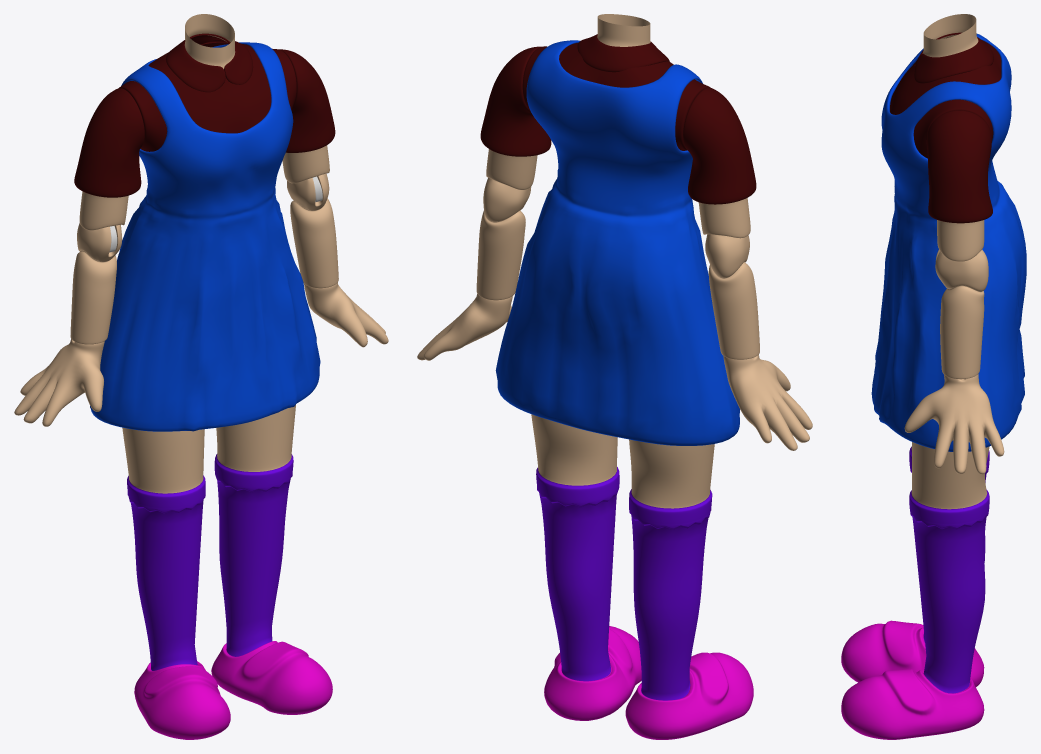
Rendered from body.fbx.
The picture shows the model from 3 angles, left to right: view 1: azimuth 30°, elevation 25°; view 2: azimuth 150°, elevation 25°; view 3: azimuth 270°, elevation 25°; orthographic projection. The views are drawn at different scales.
Parts seen in each view (by area): view 1: squidGameDoll_Body, squidGameDoll_Arm, squidGameDoll_Chest; view 2: squidGameDoll_Body, squidGameDoll_Arm, squidGameDoll_Chest; view 3: squidGameDoll_Body, squidGameDoll_Arm, squidGameDoll_Chest.
Part boxes in pixels (x1=…): squidGameDoll_Body: x1=90, y1=42, x2=332, y2=739; squidGameDoll_Arm: x1=14, y1=49, x2=388, y2=426; squidGameDoll_Chest: x1=119, y1=14, x2=296, y2=151; squidGameDoll_Body: x1=495, y1=40, x2=753, y2=739; squidGameDoll_Arm: x1=417, y1=46, x2=812, y2=450; squidGameDoll_Chest: x1=522, y1=14, x2=710, y2=150; squidGameDoll_Body: x1=841, y1=33, x2=1026, y2=739; squidGameDoll_Arm: x1=904, y1=110, x2=1004, y2=474; squidGameDoll_Chest: x1=890, y1=14, x2=1001, y2=158.
Bounding box in the file's own units: 681 × 1206 × 297.
